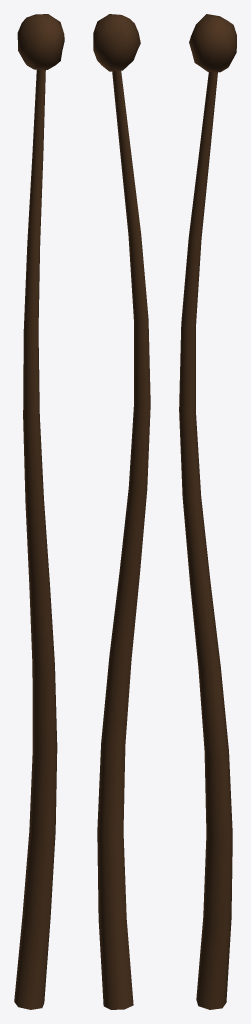
The model's file is staff.glb.
The picture shows the model from 3 angles, left to right: view 1: azimuth 30°, elevation 25°; view 2: azimuth 150°, elevation 25°; view 3: azimuth 330°, elevation 25°; orthographic projection.
Visible parts, largest first — view 1: staff; view 2: staff; view 3: staff.
Boxes of the visible parts, left/top/right/bottom form: staff: left=14, top=14, right=64, bottom=1009; staff: left=93, top=14, right=150, bottom=1009; staff: left=179, top=14, right=236, bottom=1009.
Size of the model in its own units: 0.0817 by 1.69 by 0.076.
